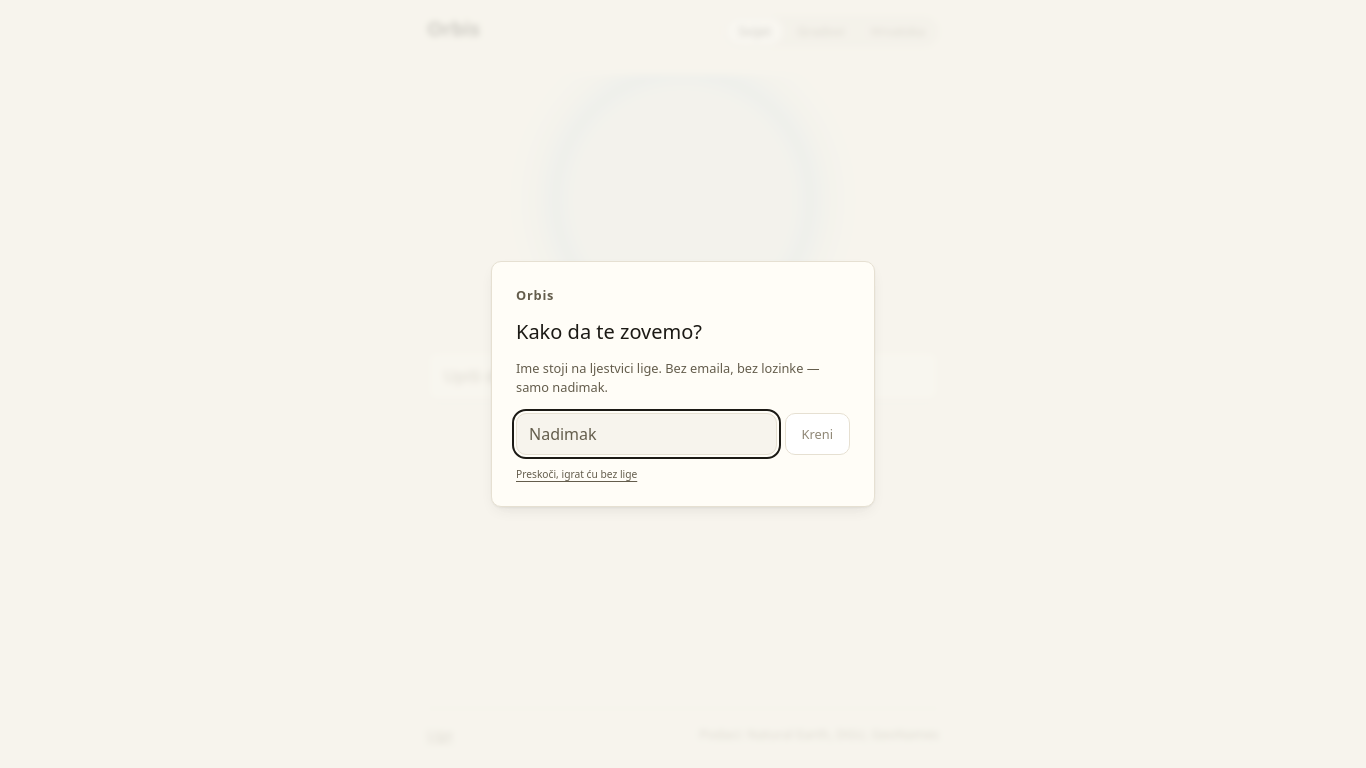
it: ime na ulazu › upisano ime se sprema i modal nestaje
Type "Marta" into the field labelled "Nadimak" at point(646, 434), box [516,413,777,455]
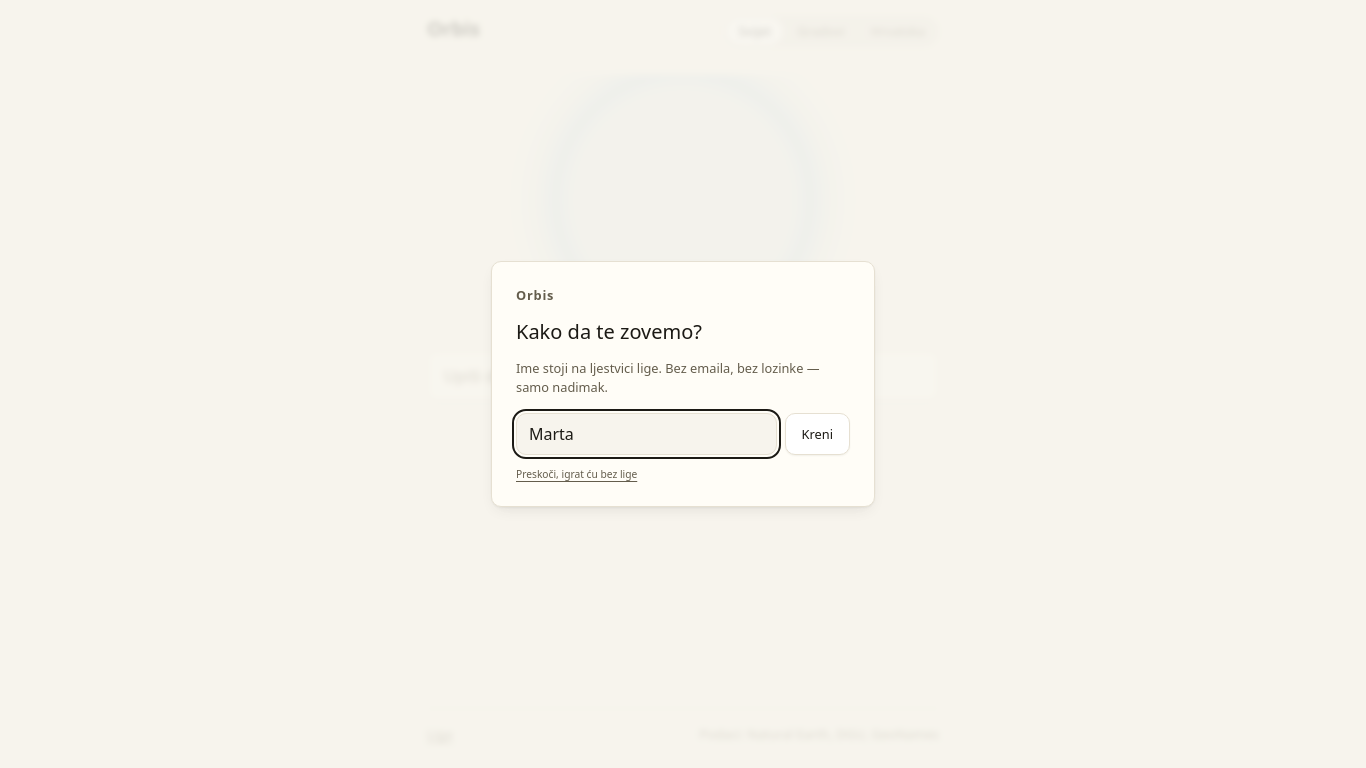
Click the button "Kreni" at point(817, 434), box [785,413,850,455]
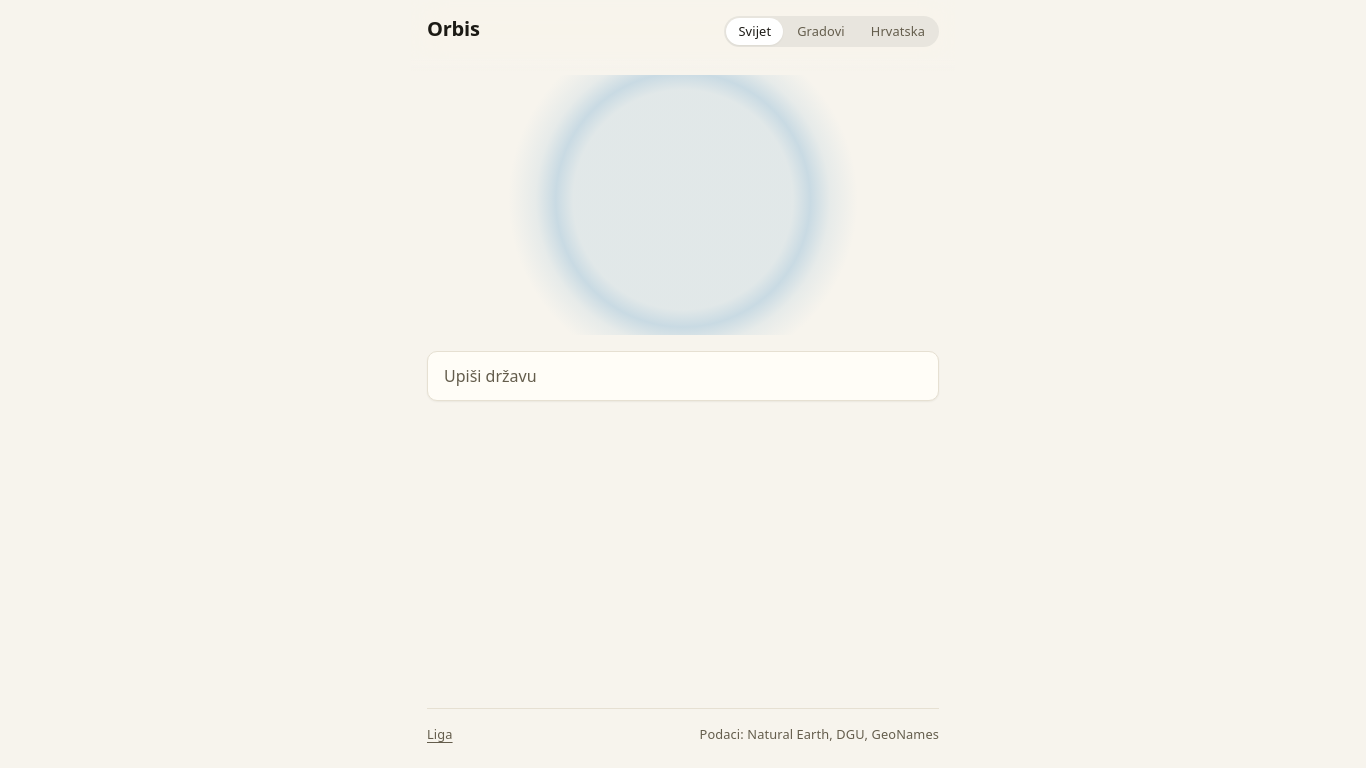
Expected: the dialog is gone
